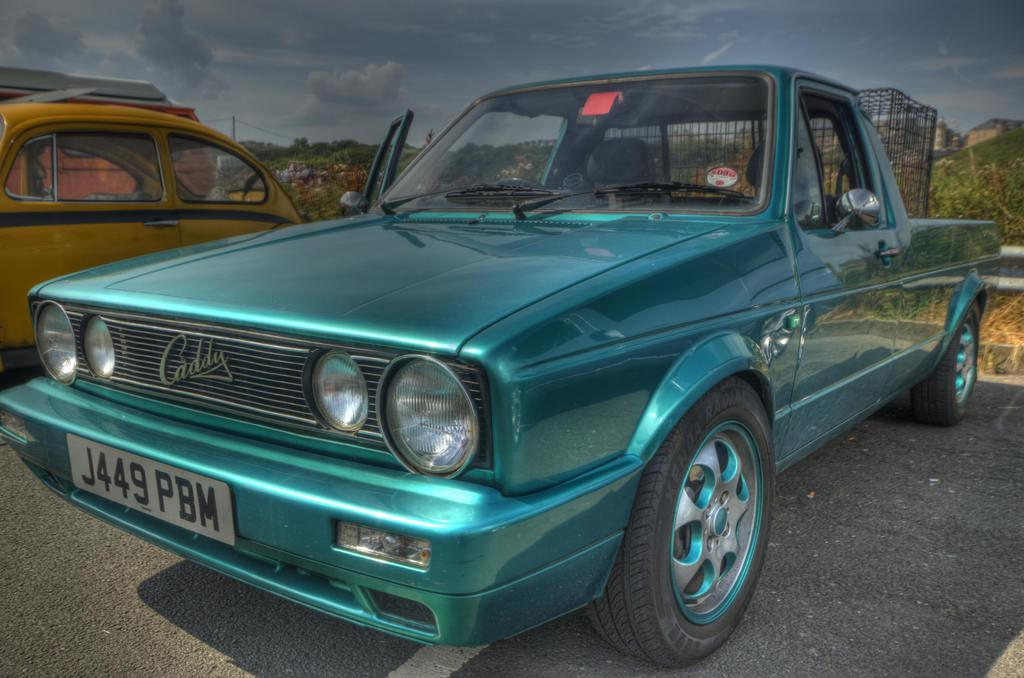taxi: (1, 102, 304, 373)
